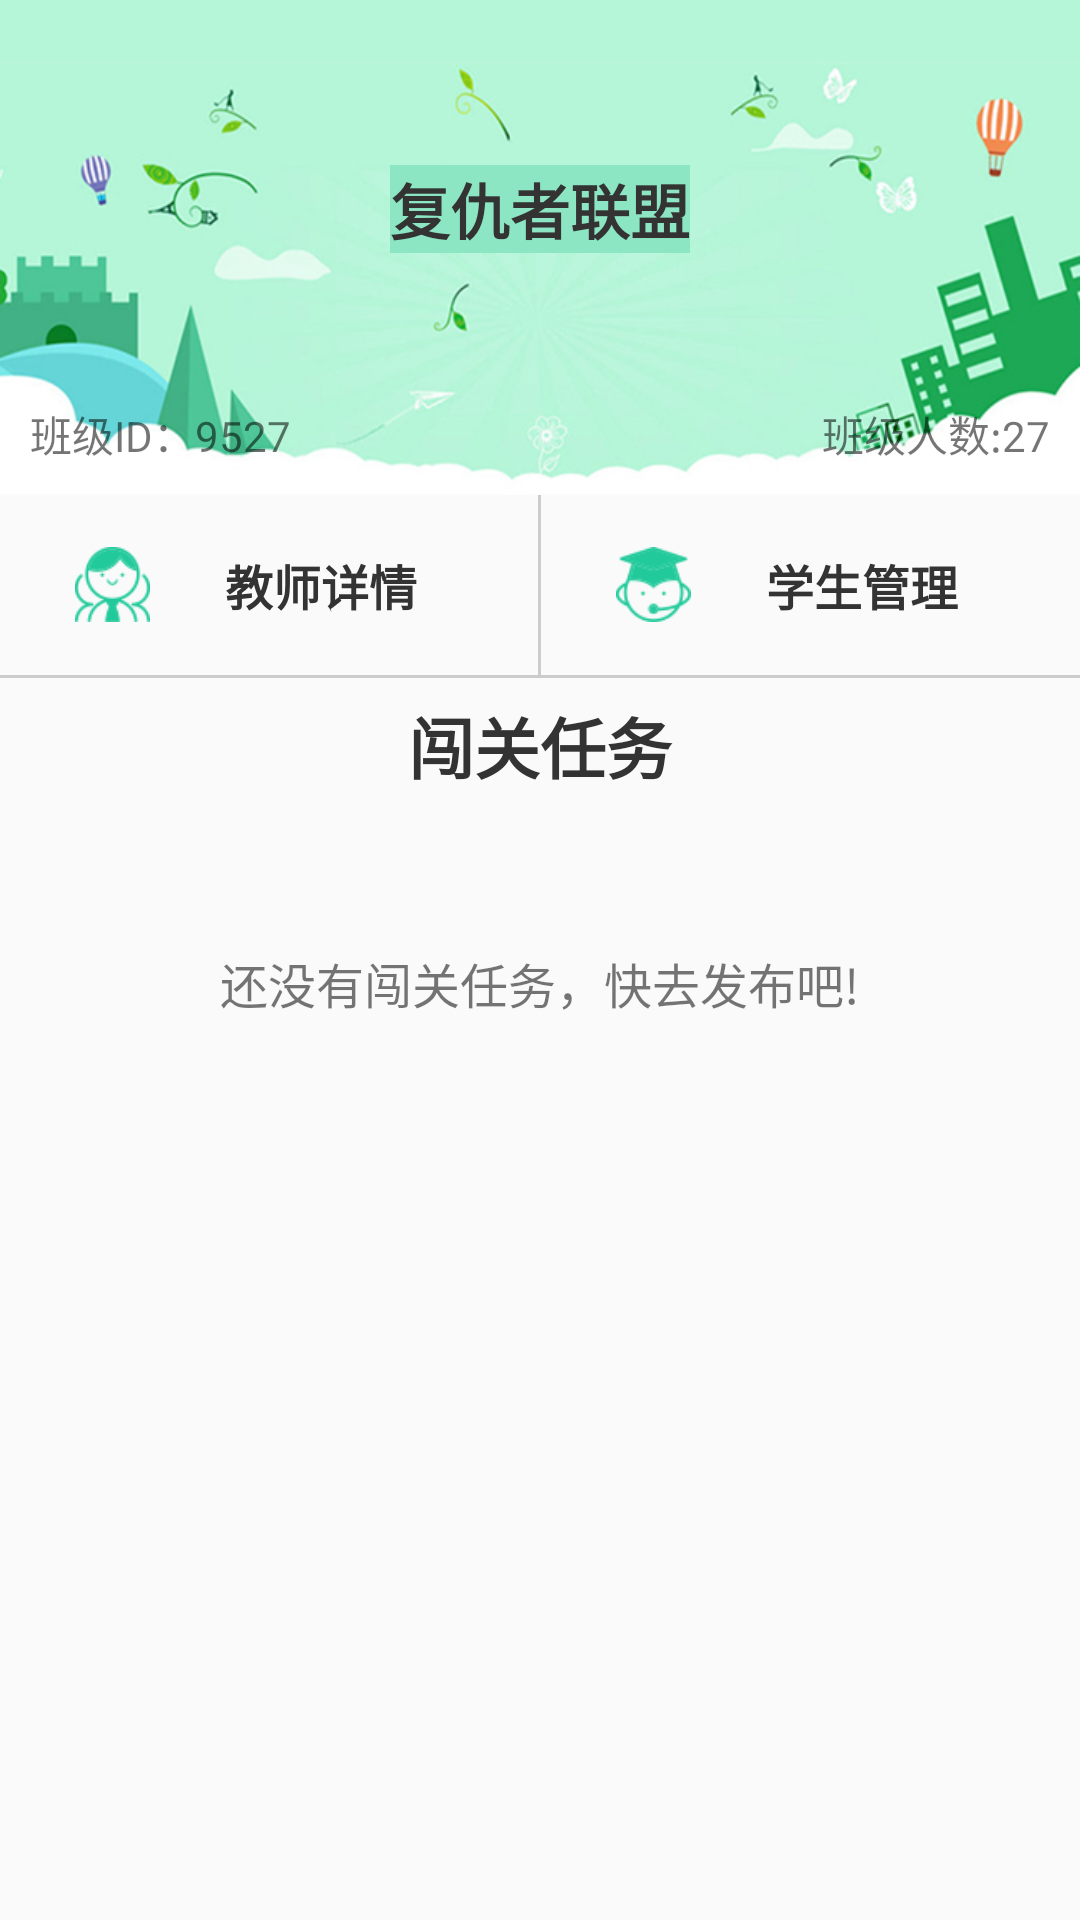

Screen size 1080*1920. Icon name, then its center in pixels as (x=x, y=y):
student: (x=653, y=584)
teacher: (x=112, y=584)
